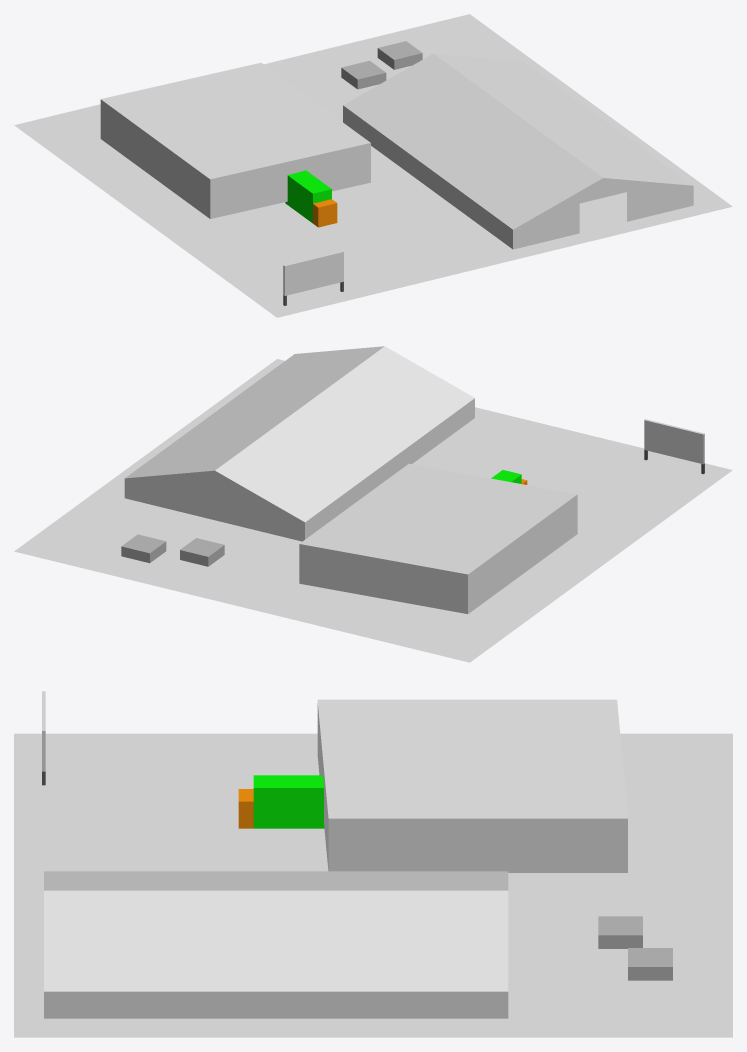
The model's file is ind02.glb.
The picture shows the model from 3 angles, top to bottom: view 1: azimuth 30°, elevation 25°; view 2: azimuth 150°, elevation 25°; view 3: azimuth 270°, elevation 25°; orthographic projection. The views are drawn at different scales.
Visible parts, largest first — view 1: Plane, Cube.002, Cube.001, Sign, Cube, Cube.004, Cube.005, Cube.003; view 2: Plane, Cube.002, Cube.001, Sign, Cube.005, Cube.004; view 3: Plane, Cube.002, Cube.001, Cube, Cube.005, Cube.004, Cube.003.
Boxes of the visible parts, <box> form: Plane: <box>14,14,732,317</box>; Cube.002: <box>343,53,693,249</box>; Cube.001: <box>100,62,370,218</box>; Sign: <box>283,251,343,295</box>; Cube: <box>285,170,331,223</box>; Cube.004: <box>341,60,386,89</box>; Cube.005: <box>377,41,422,69</box>; Cube.003: <box>313,199,337,227</box>; Plane: <box>14,359,732,662</box>; Cube.002: <box>124,346,474,541</box>; Cube.001: <box>299,463,577,613</box>; Sign: <box>644,419,704,464</box>; Cube.005: <box>121,534,166,563</box>; Cube.004: <box>180,538,224,566</box>; Plane: <box>14,733,732,1037</box>; Cube.002: <box>44,871,508,1018</box>; Cube.001: <box>317,699,627,872</box>; Cube: <box>253,775,324,828</box>; Cube.005: <box>628,948,672,980</box>; Cube.004: <box>598,916,642,948</box>; Cube.003: <box>238,789,253,828</box>.
Bounding box in the file's own units: 48 × 5 × 48.
